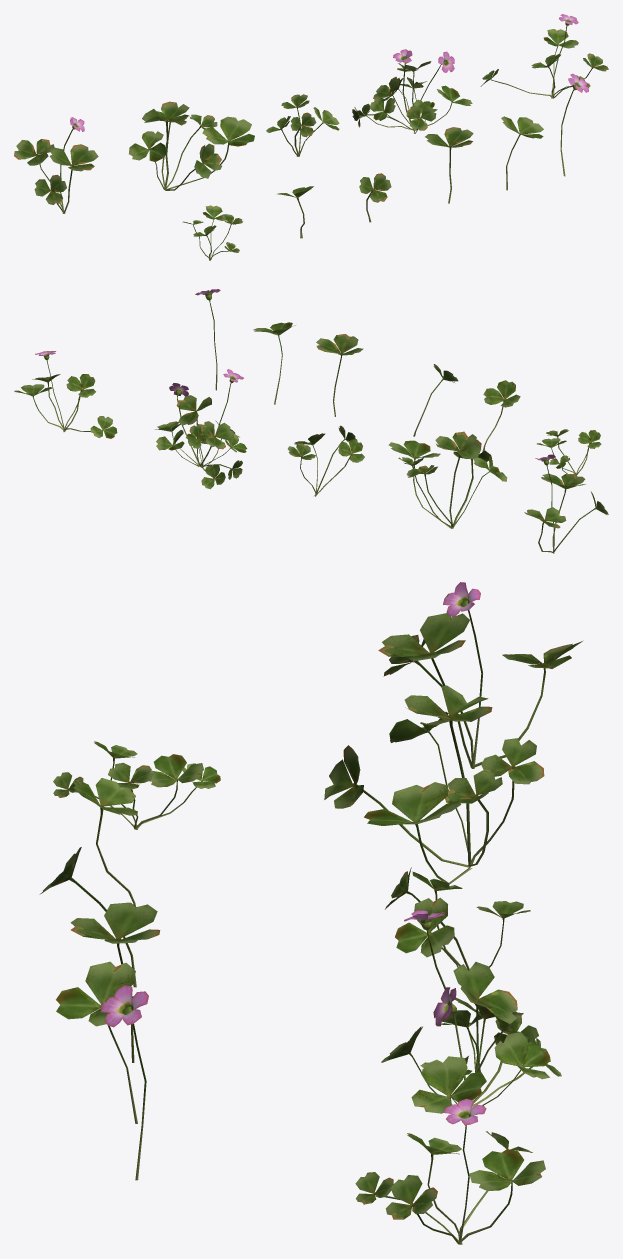
File: shrub_sorrel_01.glb
3 renders of one model, top to bottom at view 1: azimuth 30°, elevation 25°; view 2: azimuth 150°, elevation 25°; view 3: azimuth 270°, elevation 25°, orthographic. The views are drawn at different scales.
Visible parts, largest first — view 1: shrub_sorrel_01_k; view 2: shrub_sorrel_01_k; view 3: shrub_sorrel_01_k.
Boxes of the visible parts, <box> form: shrub_sorrel_01_k: <box>14,14,608,260</box>; shrub_sorrel_01_k: <box>14,289,608,553</box>; shrub_sorrel_01_k: <box>39,582,583,1244</box>.
Size of the model in its own units: 0.3521 by 0.058 by 0.1464.
1 material, 1 textured.
